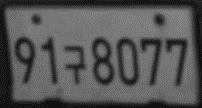0: (116, 38, 138, 84)
1: (39, 35, 58, 86)
7: (164, 37, 188, 86), (139, 36, 161, 85)
8: (90, 37, 114, 85)
9: (13, 36, 35, 83)
구: (63, 44, 87, 85)
